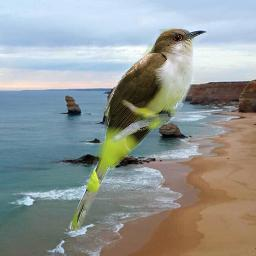Cuckoo: (68, 26, 208, 233)
